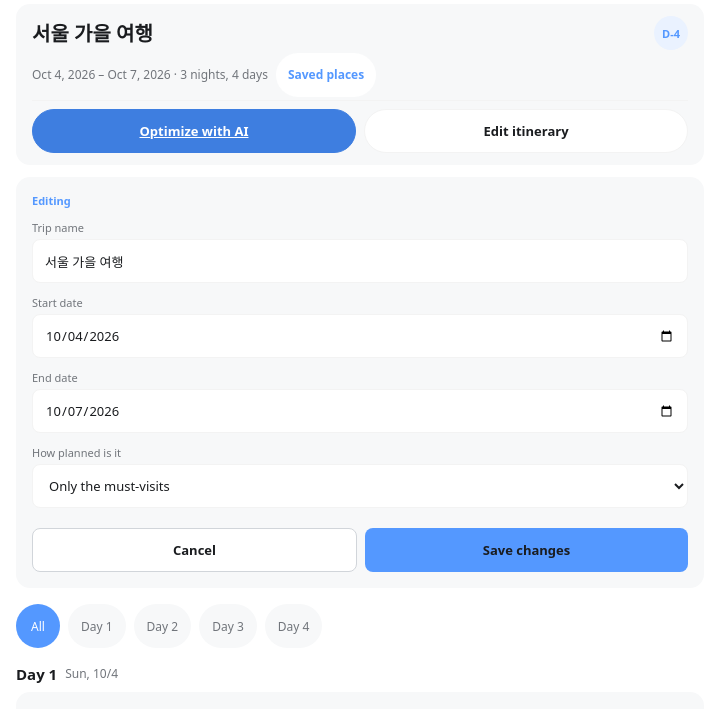
it: FE-306-T1 the preview advises and never blocks › restores only the dates, leaving an edited title alone
This screenshot has width=705, height=709.
Replace the text in the field labelled "Trip name" with "고쳐진 이름" at [360, 261], box x1=32 y1=239 x2=688 y2=283
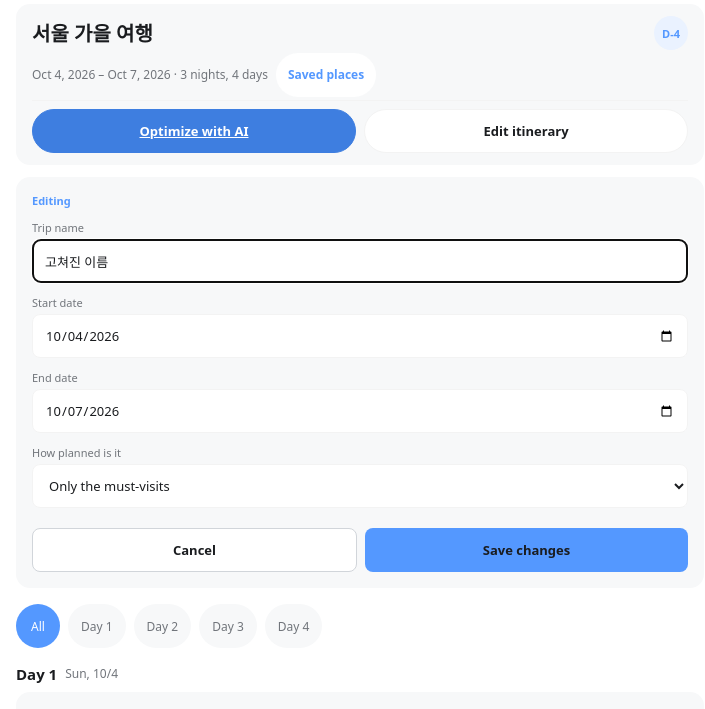
Type "2026-10-05" into the date field labelled "Start date" at [360, 336], box x1=32 y1=314 x2=688 y2=358
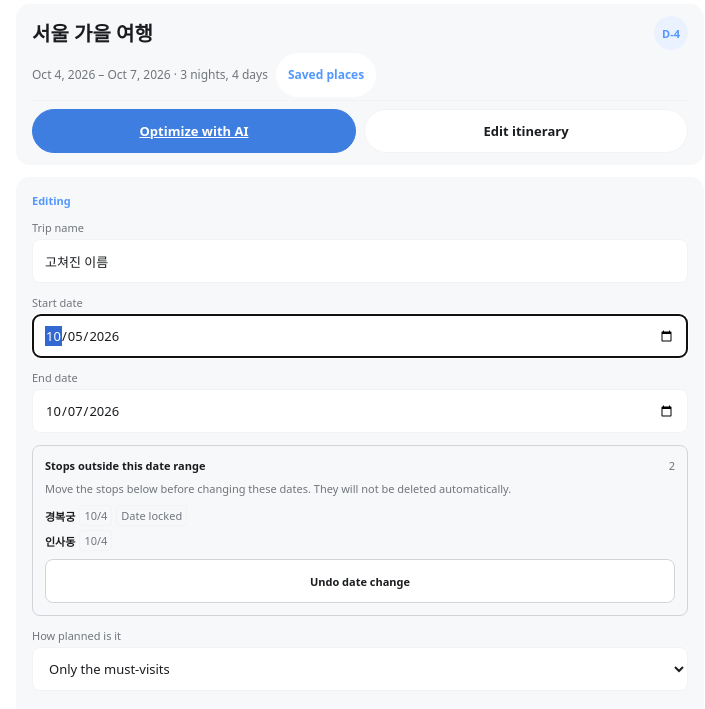
Check: the text "Stops outside this date range" is shown, box x1=45 y1=458 x2=205 y2=473
Click the button "Undo date change" at [360, 581], box x1=45 y1=559 x2=675 y2=603
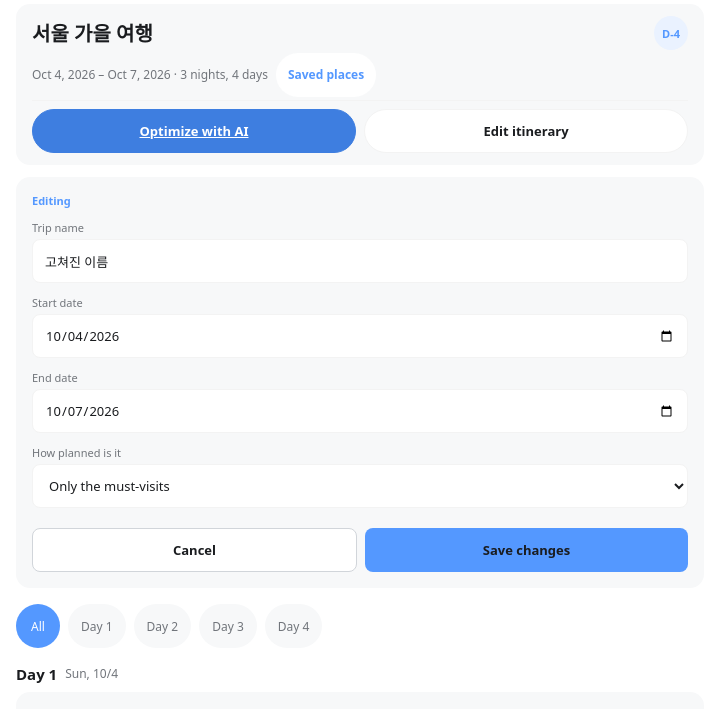
Check: the date field labelled "Start date" holds "2026-10-04", box x1=32 y1=314 x2=688 y2=358
